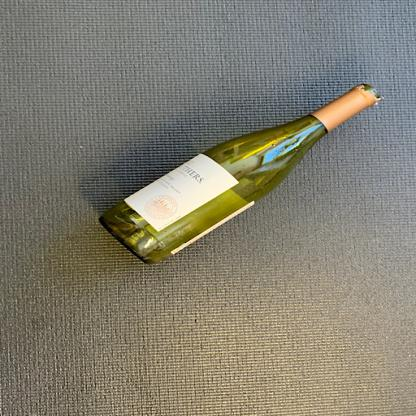trash: (100, 82, 381, 270)
